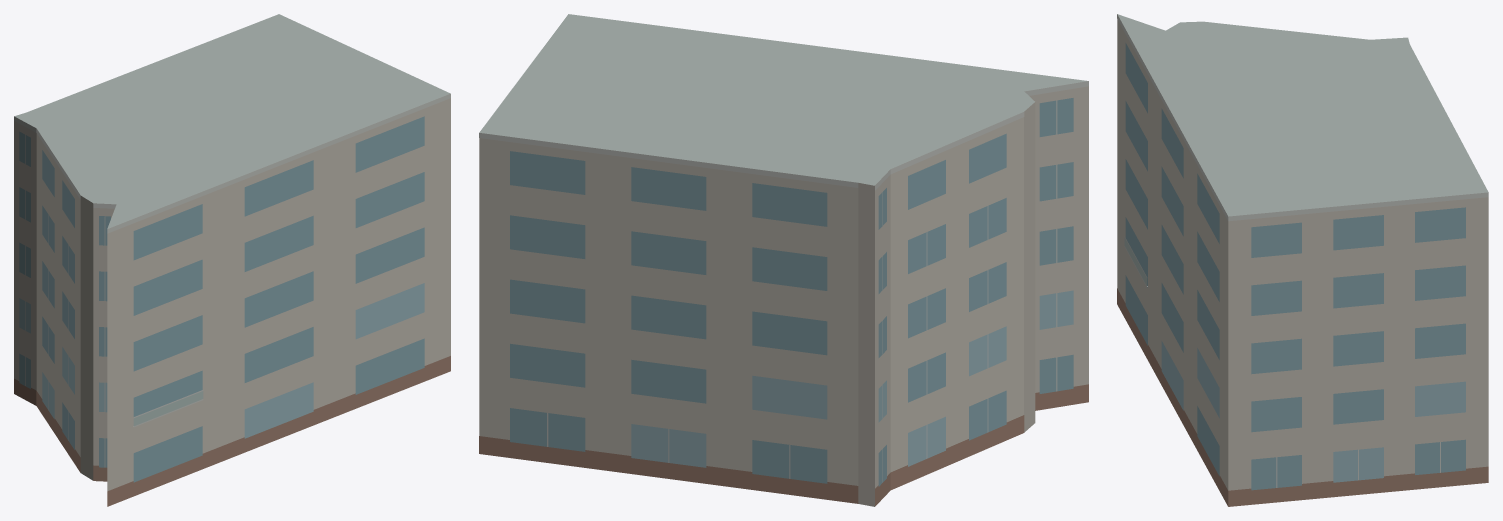
File: survey-upis-33047036.glb
The picture shows the model from 3 angles, left to right: view 1: azimuth 30°, elevation 25°; view 2: azimuth 150°, elevation 25°; view 3: azimuth 270°, elevation 25°; orthographic projection. The views are drawn at different scales.
Parts seen in each view (by area): view 1: survey-upis-33047036.tmp; view 2: survey-upis-33047036.tmp; view 3: survey-upis-33047036.tmp.
Part boxes in pixels (left/top/right/bottom): survey-upis-33047036.tmp: left=14, top=14, right=450, bottom=506; survey-upis-33047036.tmp: left=479, top=14, right=1088, bottom=506; survey-upis-33047036.tmp: left=1117, top=14, right=1488, bottom=506.
Size of the model in its own units: 22.28 by 14.89 by 17.27.
